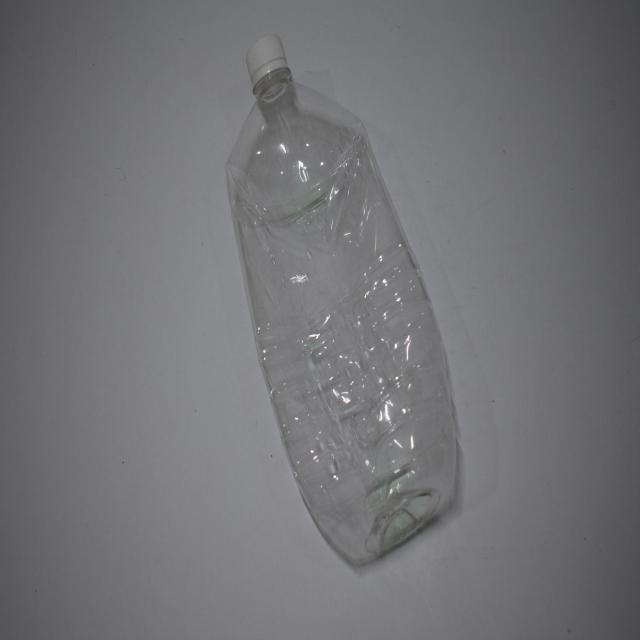bottle: (220, 24, 466, 573)
